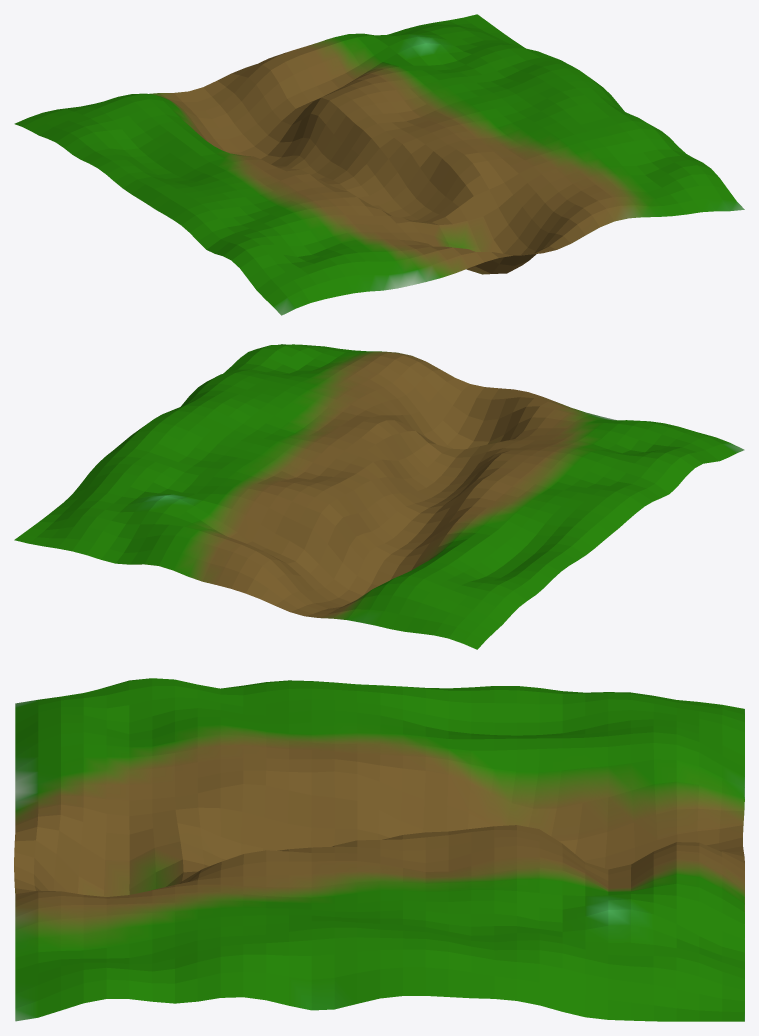
File: Terain.fbx
3 views of the same model, one above another, from view 1: azimuth 30°, elevation 25°; view 2: azimuth 150°, elevation 25°; view 3: azimuth 270°, elevation 25° (orthographic). The views are drawn at different scales.
Visible parts, largest first — view 1: Plane; view 2: Plane; view 3: Plane.
Boxes of the visible parts, <box> form: Plane: <box>14,14,744,315</box>; Plane: <box>14,344,744,649</box>; Plane: <box>14,678,744,1021</box>.
Size of the model in its own units: 5400 by 829 by 5410.
1 material, 1 textured.
